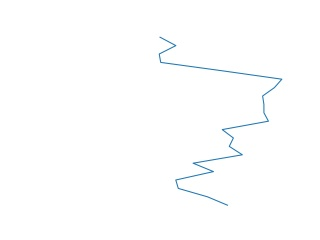floodPlain: (157, 34, 283, 208)
